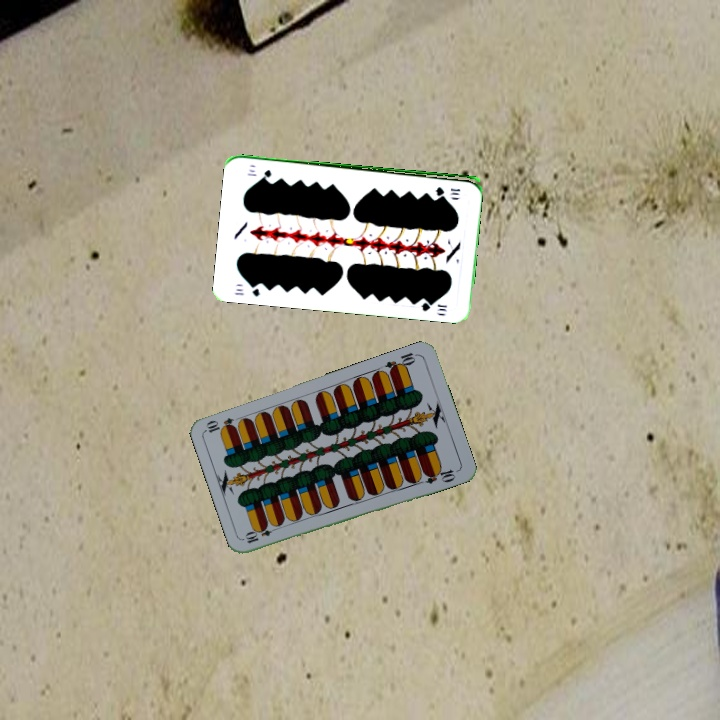E10: (381, 348, 421, 376), (241, 522, 281, 546)
G10: (231, 280, 262, 299), (432, 183, 463, 198)
